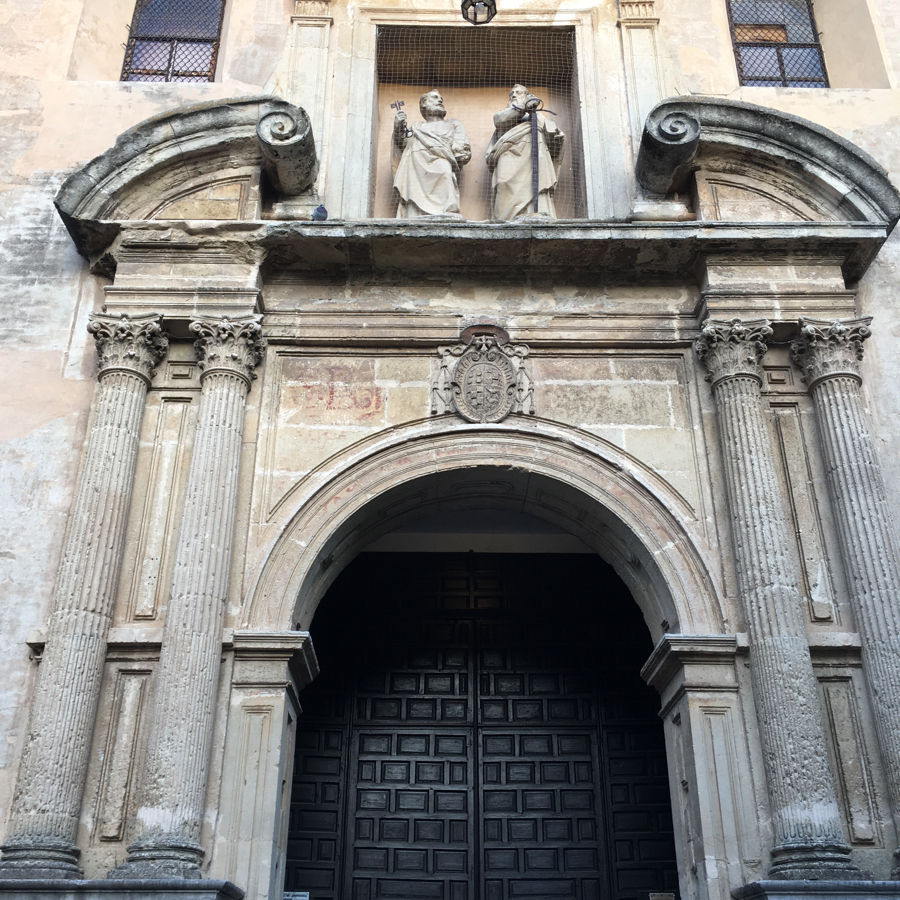arco-medio-punto: (266, 438, 710, 715)
fronton-partido: (63, 104, 867, 262)
vano-adintelado: (337, 6, 612, 230)
